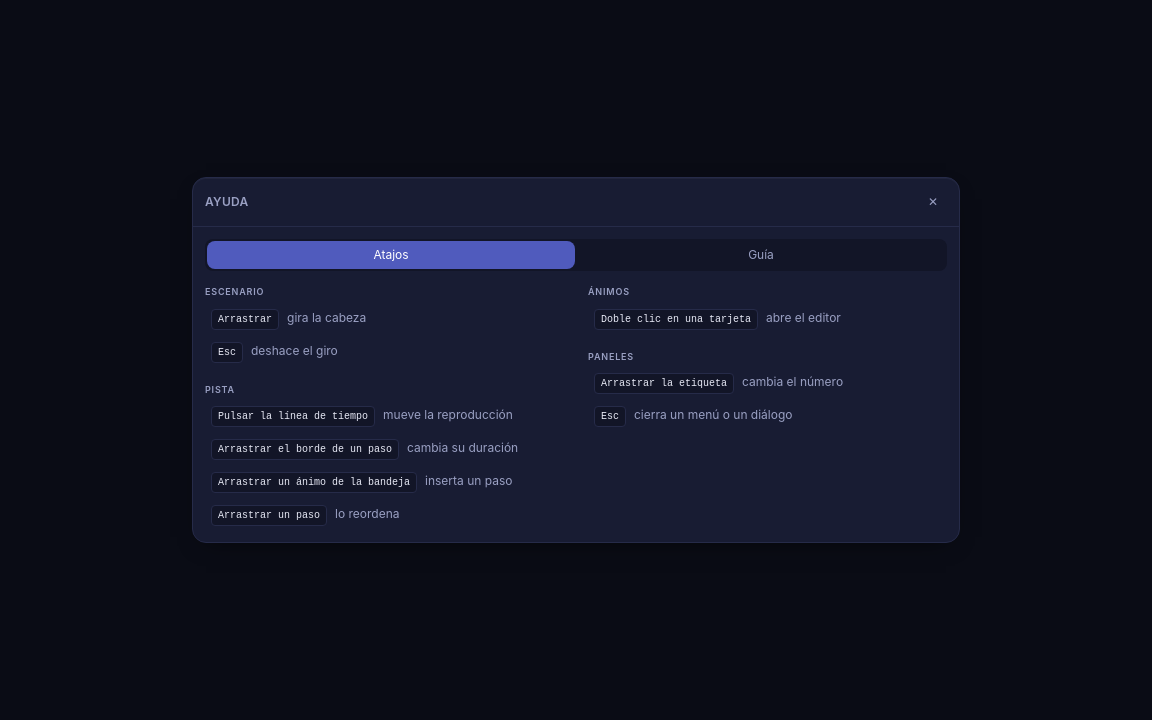
it: the guide explains the studio in the reader's language › renders every section, heading and body
Click the tab "Guía" at point(761, 255), box [577,241,945,269]
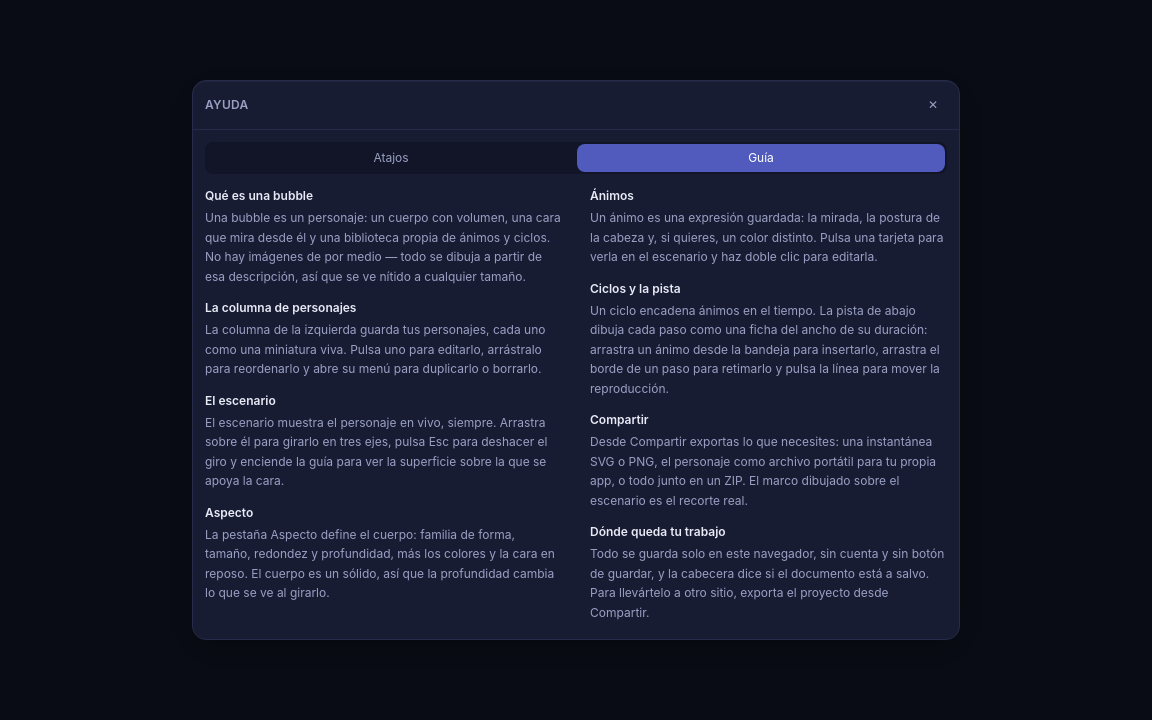
Now the heading "Qué es una bubble" is shown, box [205,188,313,203]
Now the text "Una bubble es un personaje: un cuerpo con volumen, una cara que mira desde él y una biblioteca propia de ánimos y ciclos" is shown, box [205,210,561,284]
Now the heading "La columna de personajes" is shown, box [205,300,356,315]
